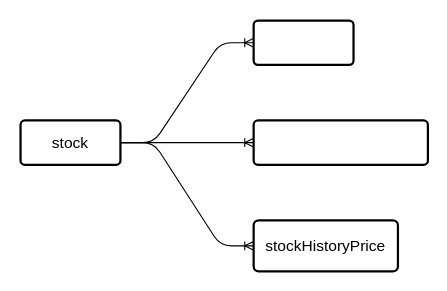
Image size: 447x291. Some labels were removed from this diagram. Each missing label, with the box of its shape:
stockHistoryDividend: (252, 119, 428, 165)
stockInfo: (252, 19, 354, 65)
